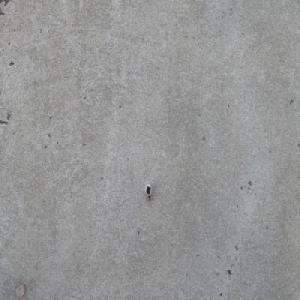MetalPart: (144, 183, 153, 203)
